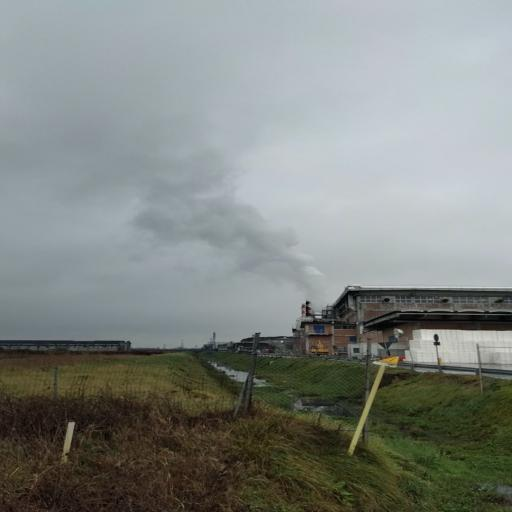leakage: (43, 110, 341, 331)
